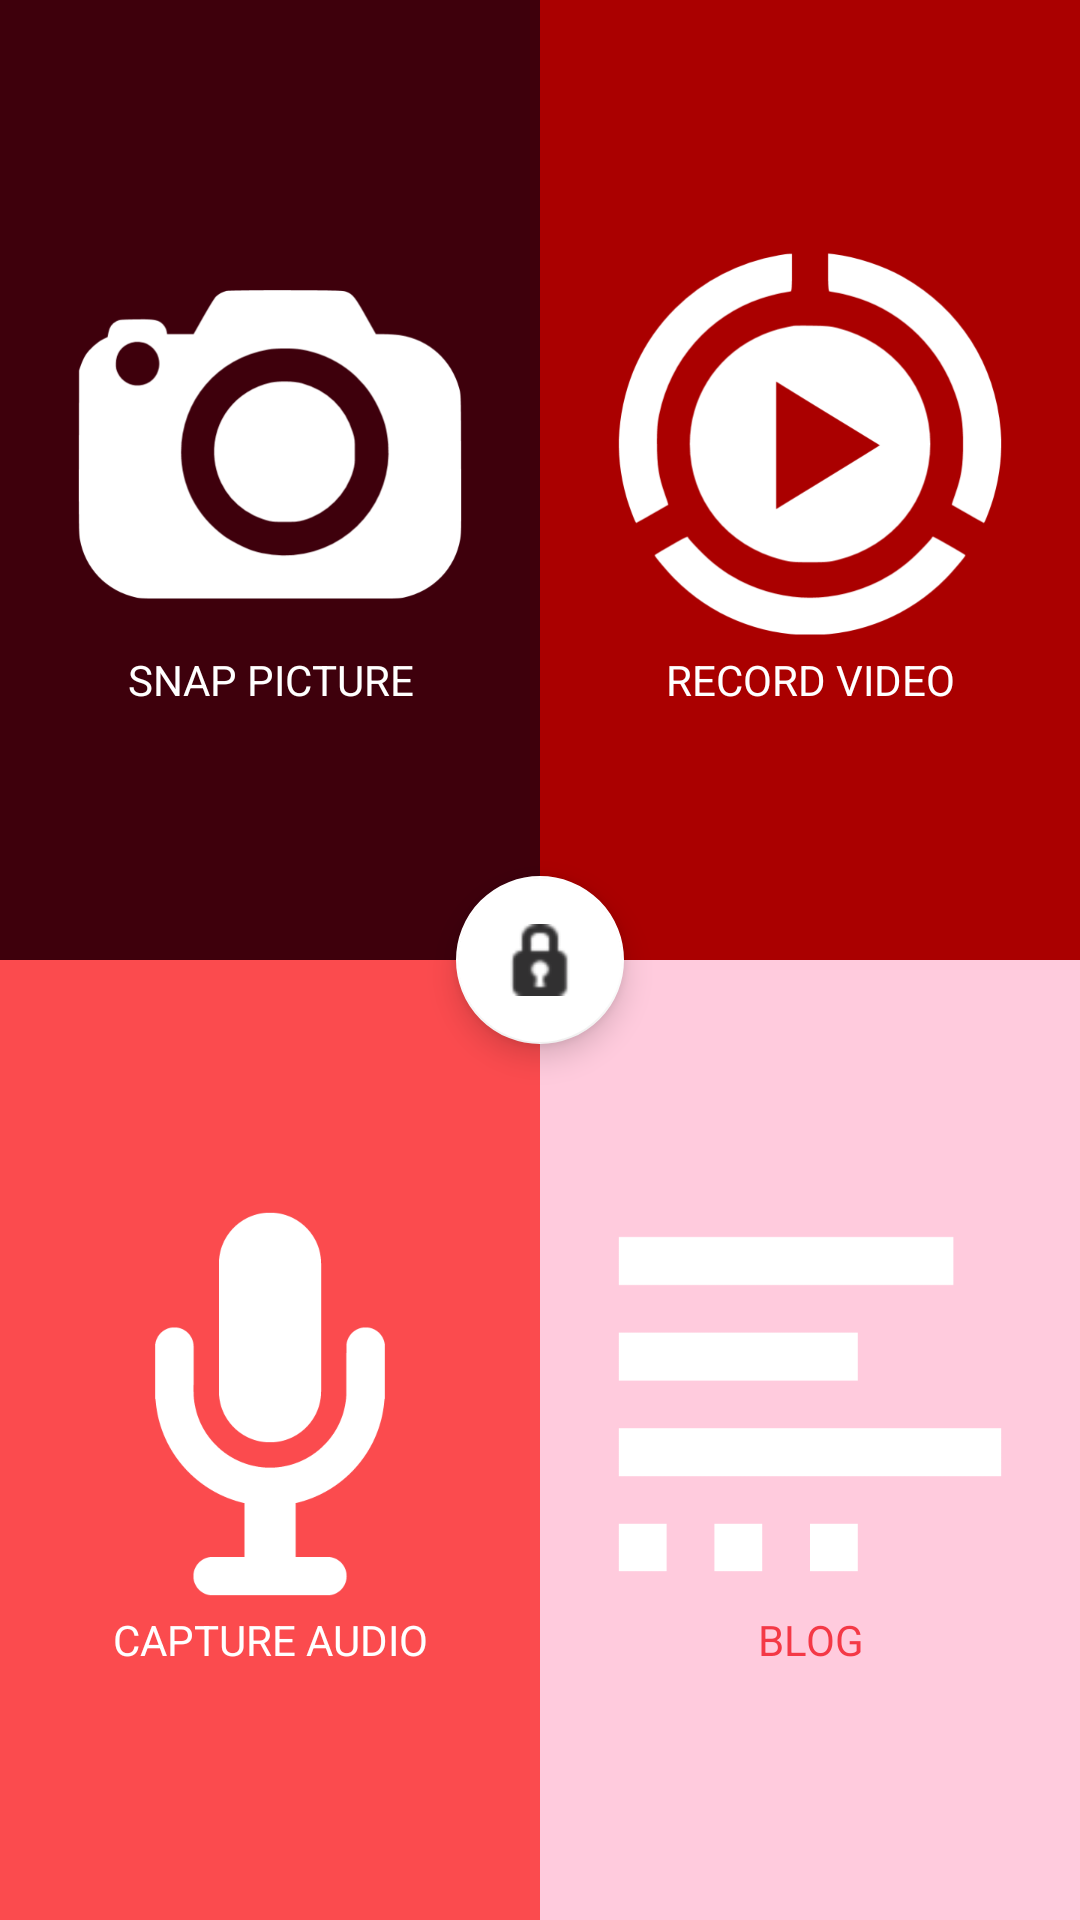

Icon click points for this 1080*1920 phone screenshot, format point (x, y):
secure: point (540, 960)
